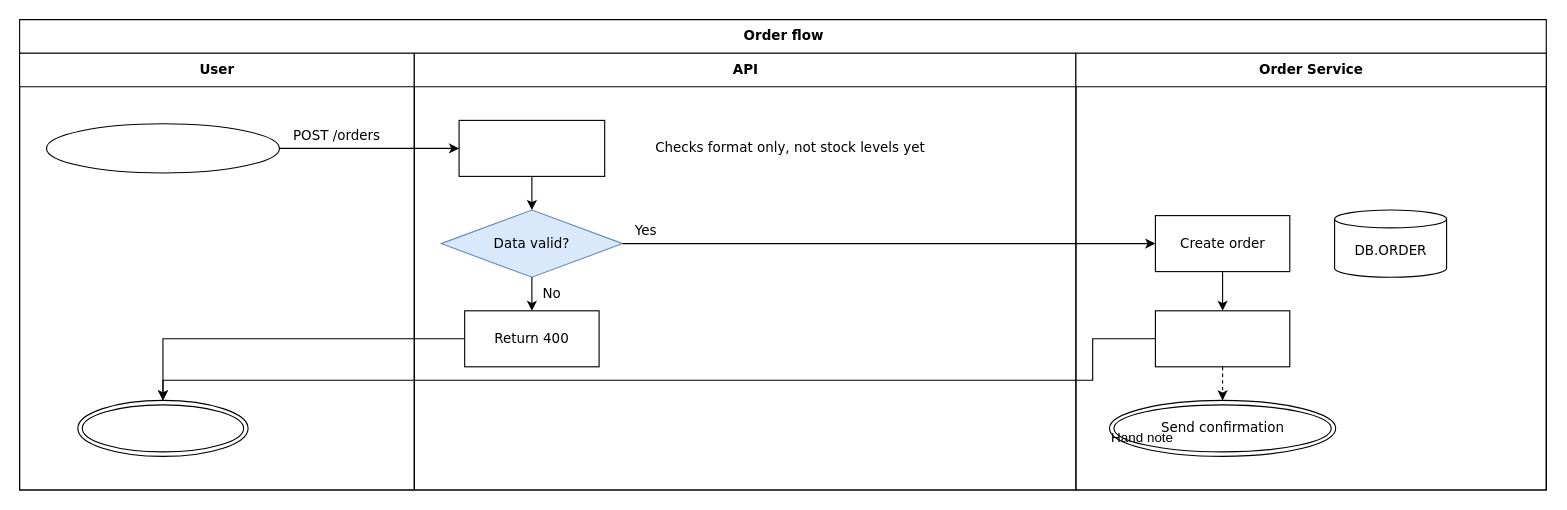
Image size: 1567x510. Some labels were removed from this diagram. Each missing label, with the centre of its shape:
"Get result" goes at [162,427].
"Return result" goes at [1222,338].
"Submit order request" goes at [162,148].
"Validate data" goes at [531,147].
